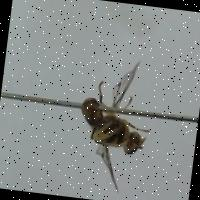Oriental-fruit-fly: (62, 52, 176, 198)
